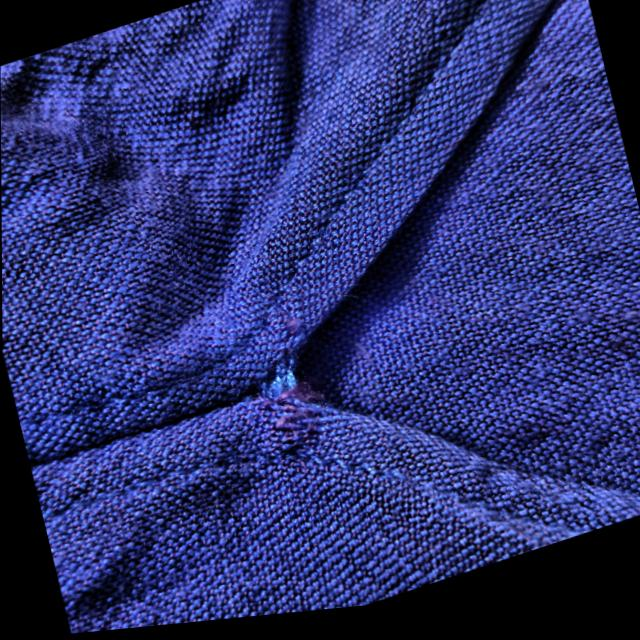Stitch: (208, 321, 348, 490)
